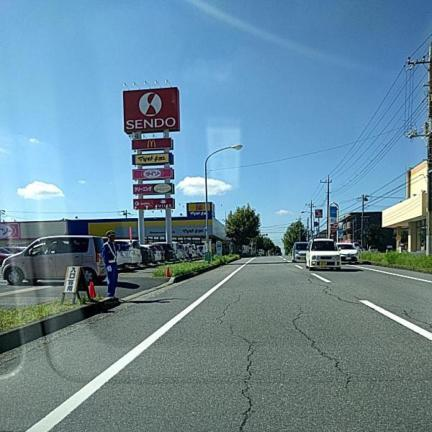Road: (0, 257, 431, 431)
